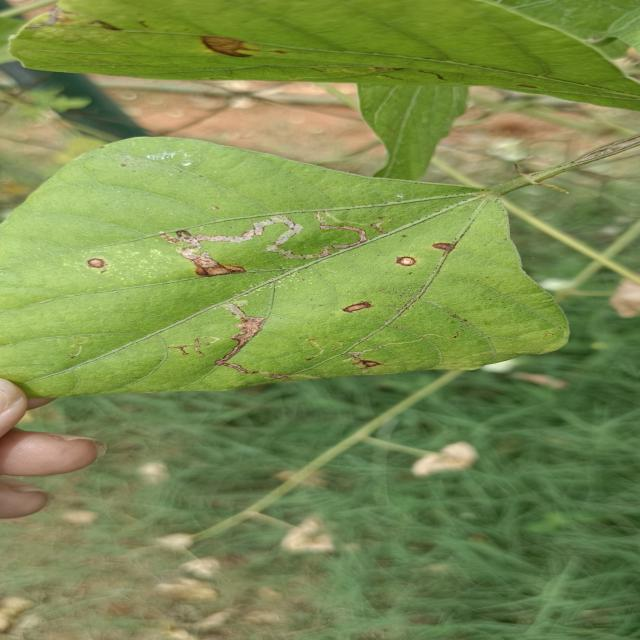Dolicos bean_cercospora leaf spot: (1, 134, 565, 400)
